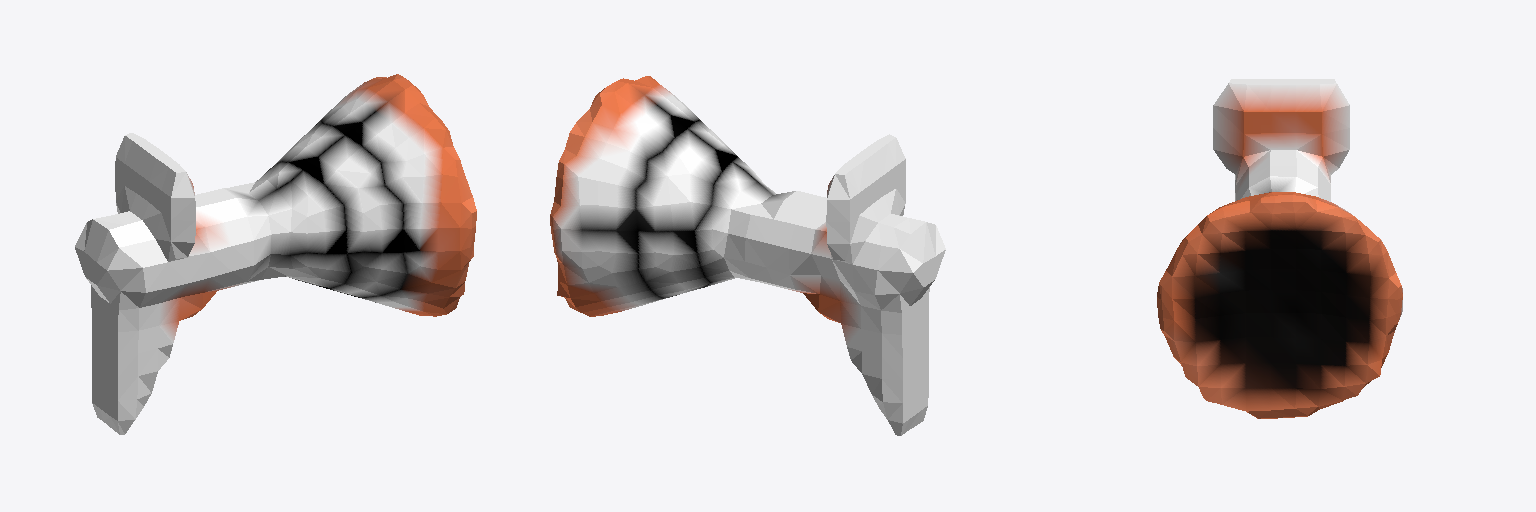
3 views of the same model, side by side, from view 1: azimuth 30°, elevation 25°; view 2: azimuth 150°, elevation 25°; view 3: azimuth 270°, elevation 25° (orthographic).
Parts seen in each view (by area): view 1: Cylinder; view 2: Cylinder; view 3: Cylinder.
Part boxes in pixels (x1,y1,x2,y2): Cylinder: (75,74,476,434); Cylinder: (550,76,945,435); Cylinder: (1157,79,1402,418).
Size of the model in its own units: 560 by 447 by 366.
Materials: 1 (1 with a texture image).